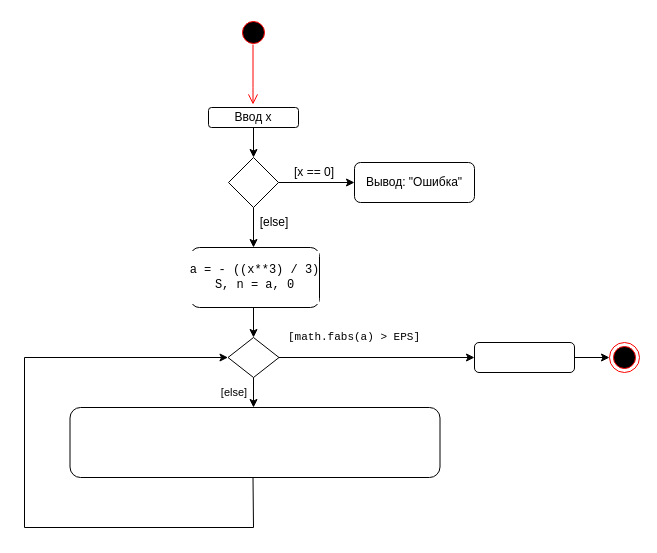
This 657x553 diagram has some shape labels left out. Each missing label, with the centre of its shape:
a *= - ((x * (2*n + 1)) / ((2*n + 2) * (n + 1))) S += a n += 1: the point at 254,442
Вывод S: the point at 524,357
